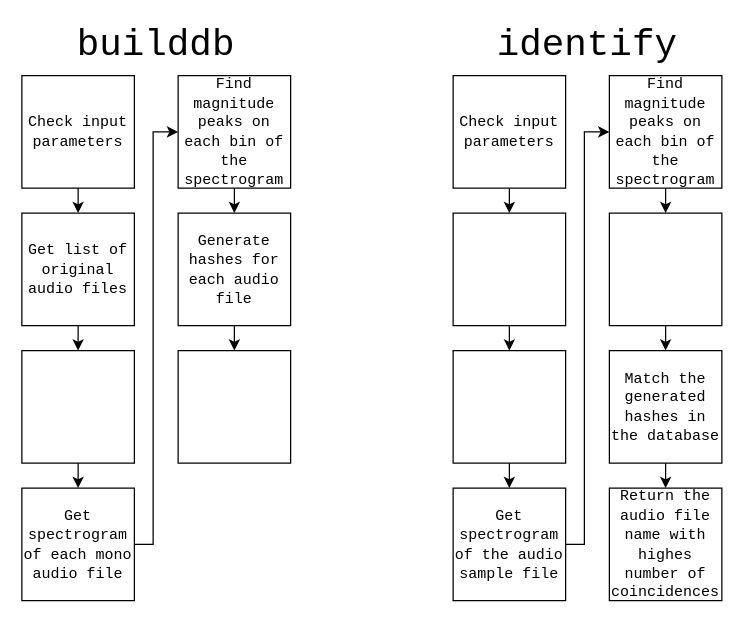
The diagram is 744 pixels wide and 623 high, and some of its shapes have lost their labels. Each missing label, with the box of its shape:
Convert audio files to mono: (21, 349, 134, 463)
Convert audio sample file to mono: (452, 349, 566, 463)
Generate hashes for the audio sample file: (608, 212, 722, 326)
Get audio sample f ile: (452, 212, 566, 326)
Store the hashes in a database file: (177, 349, 291, 463)
